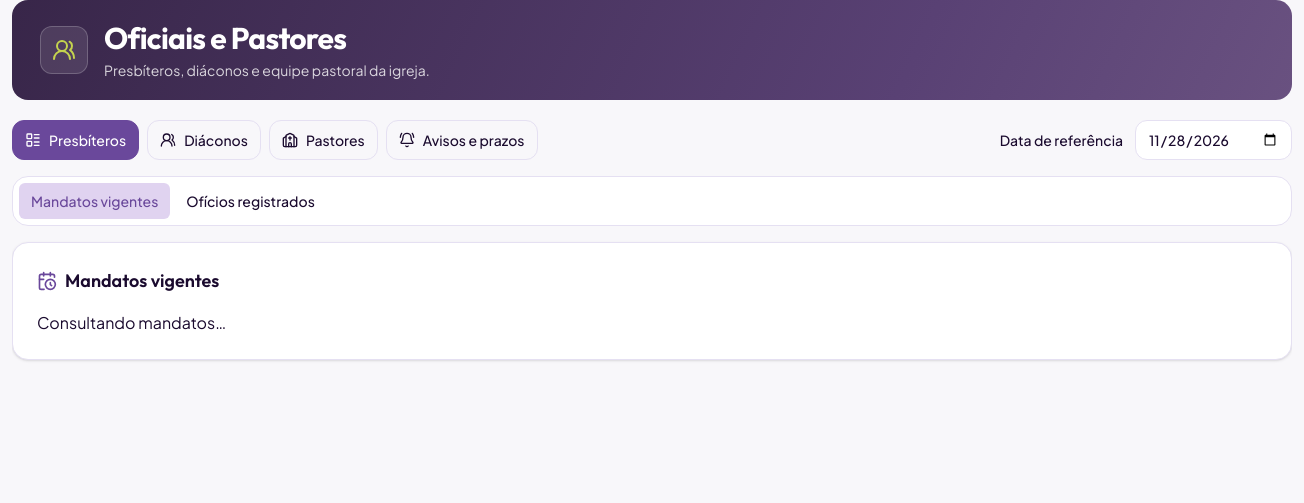
Test: consulta de oficiais › mostra oficial e consulta exercício sem afirmar competência
The width and height of the screenshot is (1304, 503).
Expected: the heading "Oficiais e Pastores" is shown, [104, 19, 346, 57]
Expected: the heading "Mandatos vigentes" is shown, [37, 267, 219, 295]
Click the tab "Diáconos" at (204, 140), box [147, 120, 261, 160]
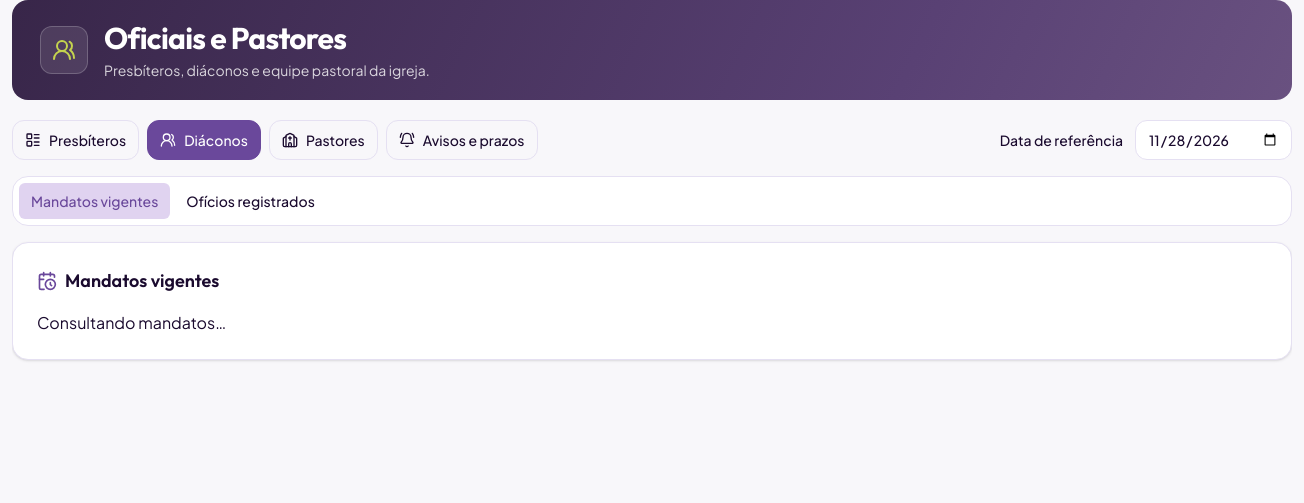
Click the button "Ofícios registrados" at (251, 201), box [174, 183, 327, 219]
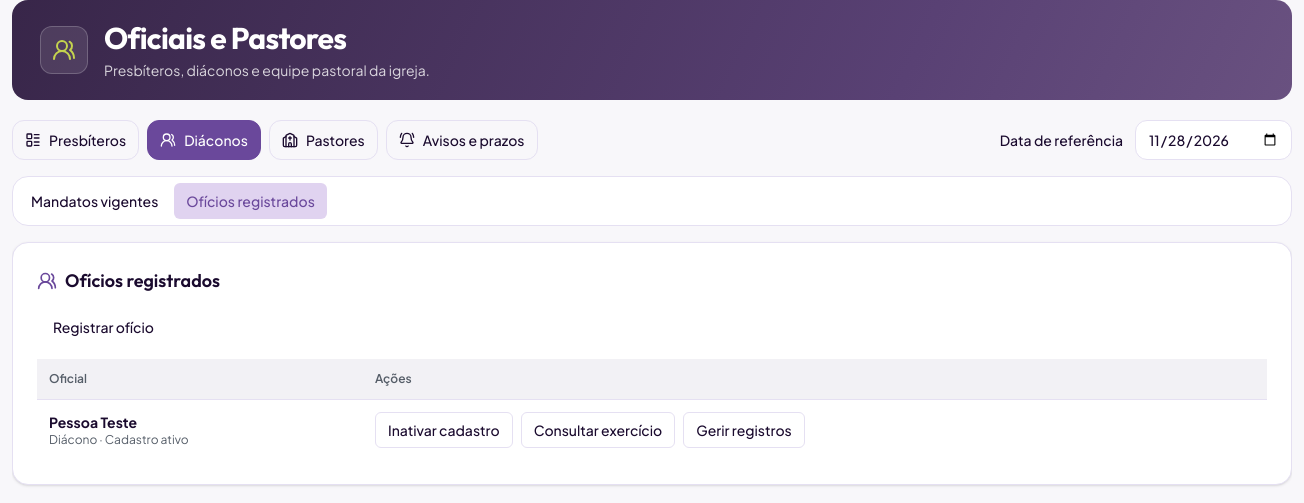
Expected: the text "Pessoa Teste" is shown, [49, 413, 137, 431]
Click the button "Consultar exercício" at (598, 430), box [521, 412, 675, 448]
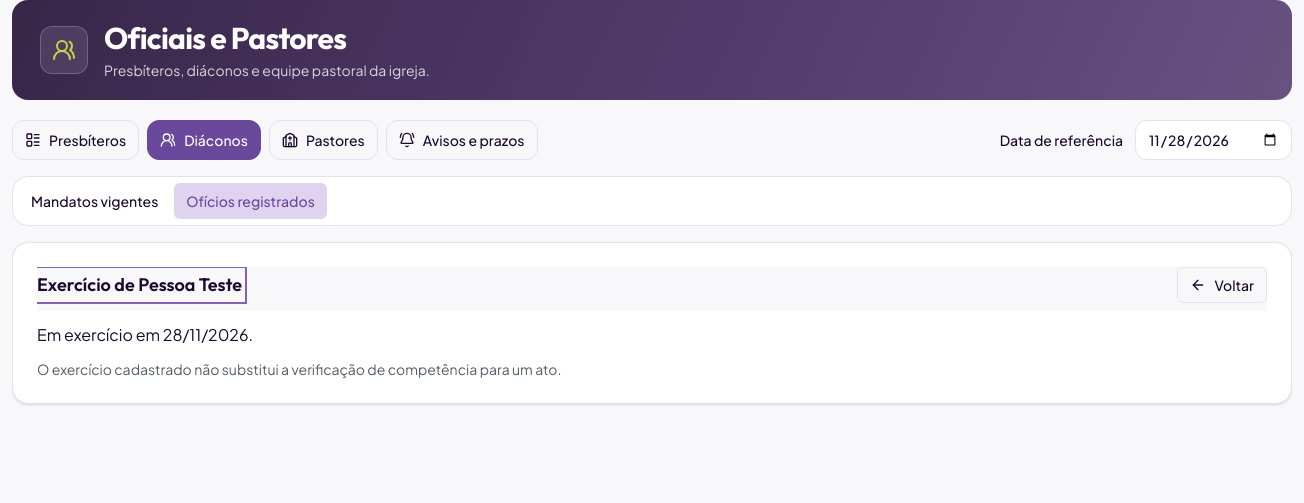
Expected: the text "Em exercício em 28/11/2026." is shown, [37, 324, 253, 345]
Expected: the text "não substitui a verificação de competência" is shown, [37, 360, 561, 378]
